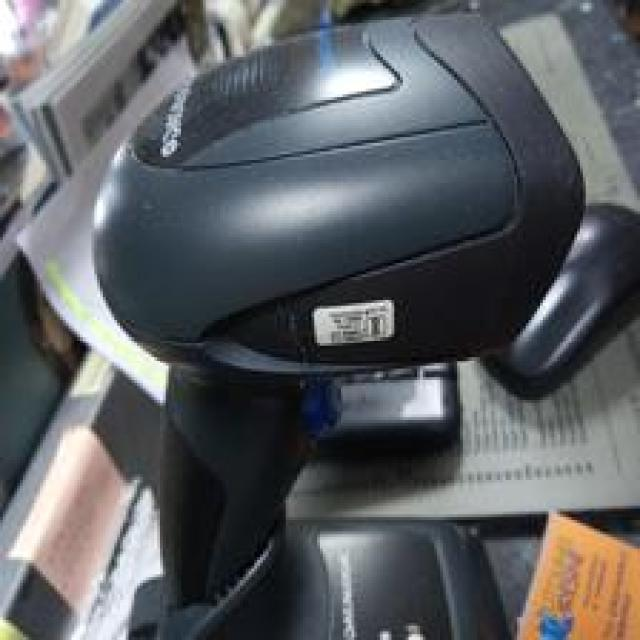Aedes albopictus: (85, 4, 640, 638)
